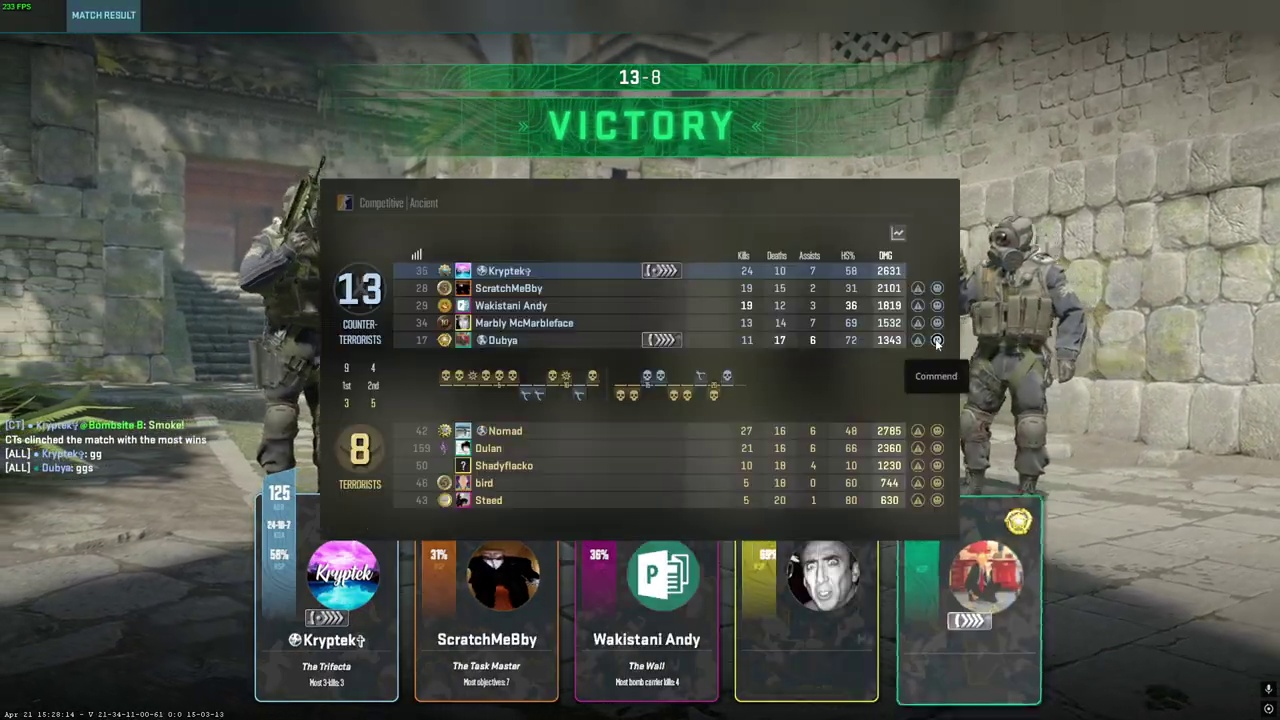CT: (955, 216, 1070, 498), (245, 184, 324, 482)
